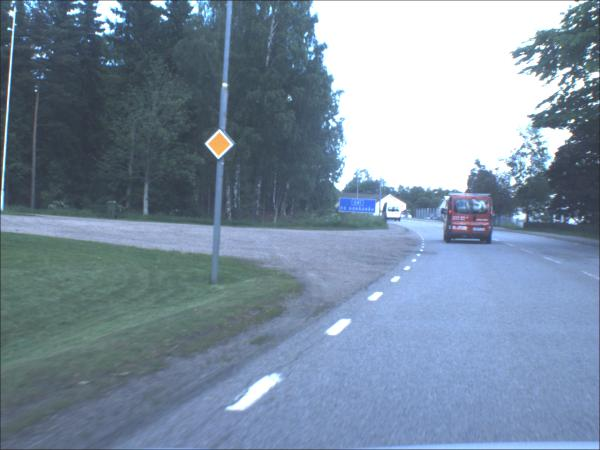PRIORITY_ROAD: (203, 129, 235, 163)
